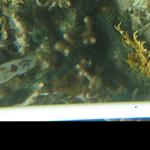alive: (11, 9, 142, 137)
